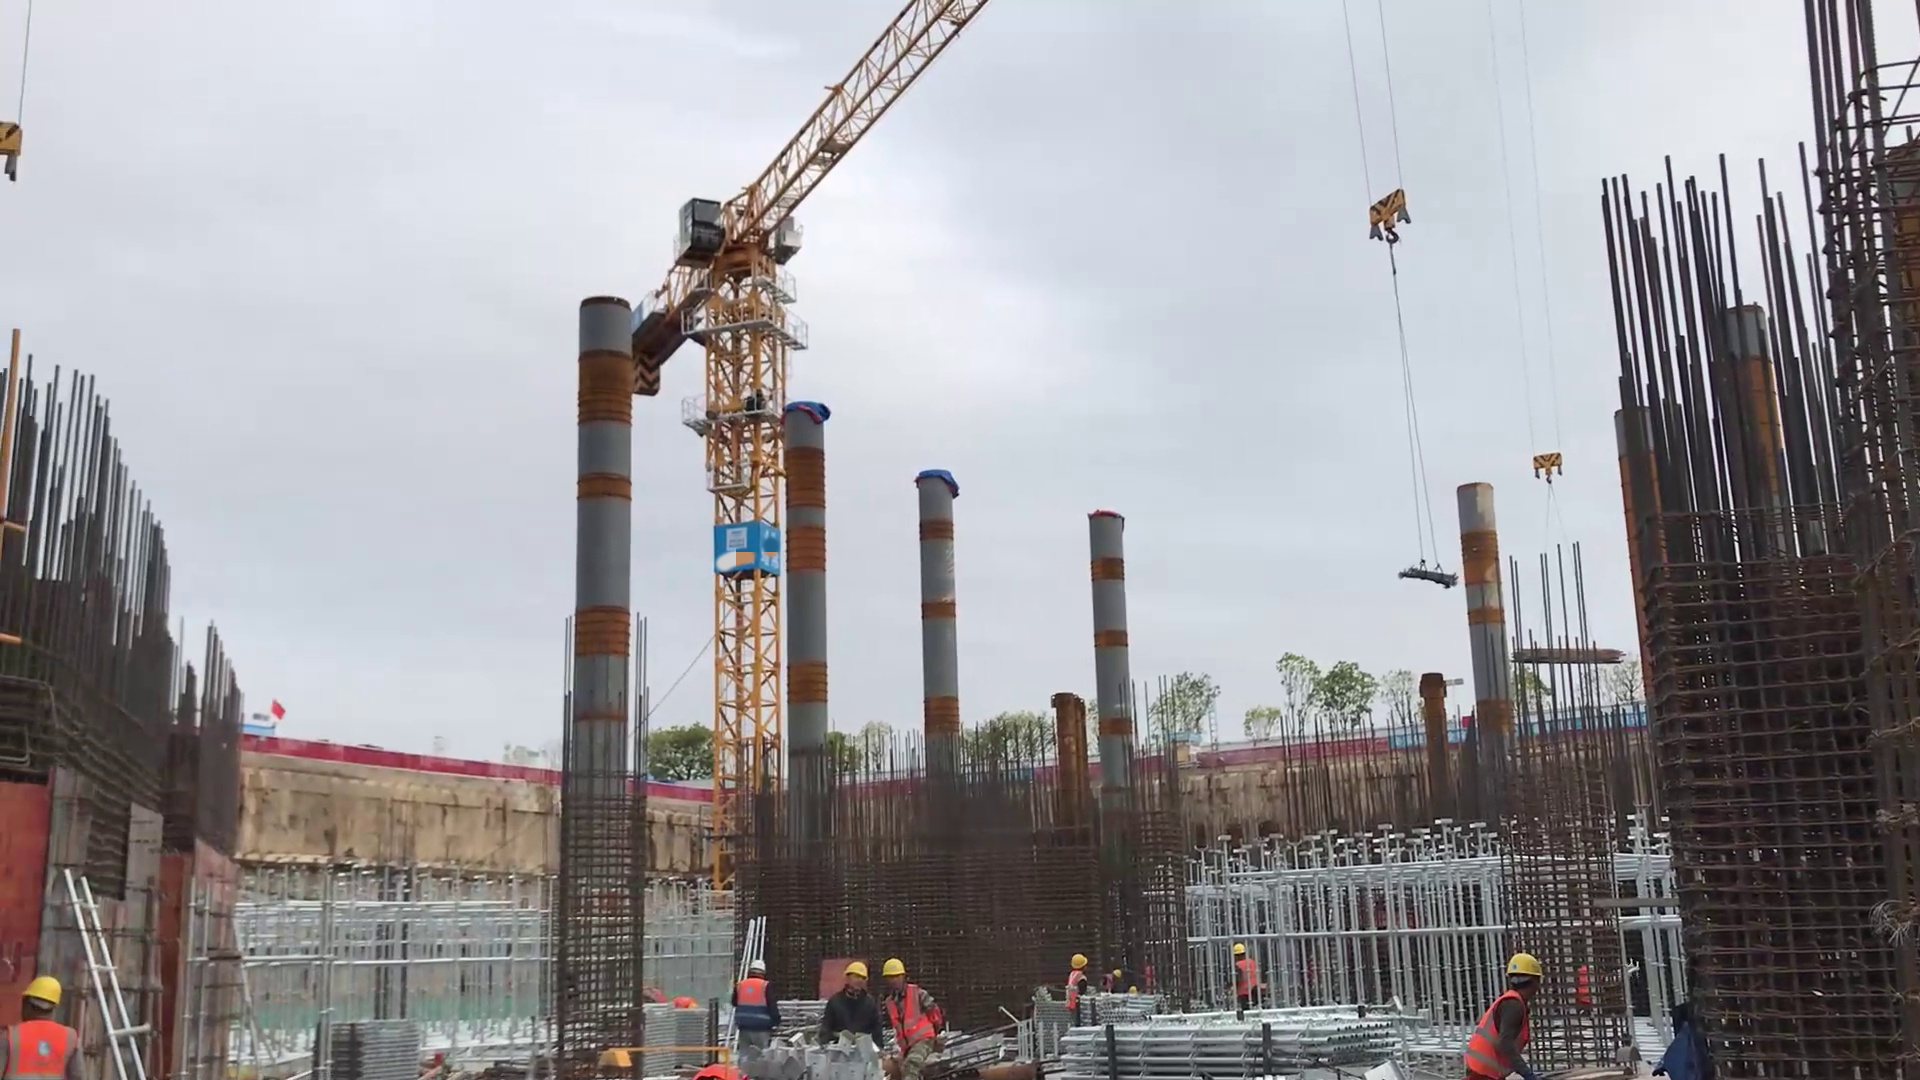helmet: (1504, 952, 1543, 979), (882, 956, 909, 979), (844, 961, 872, 980), (748, 959, 769, 974), (1071, 952, 1088, 970), (1232, 942, 1247, 956)
person: (1460, 948, 1551, 1080), (879, 951, 958, 1066), (1, 972, 77, 1080), (818, 960, 882, 1050), (732, 958, 789, 1056), (1223, 938, 1266, 1013), (1064, 949, 1093, 1020)
vest: (1470, 990, 1535, 1080), (8, 1019, 80, 1080), (887, 988, 942, 1051), (736, 978, 777, 1030), (1231, 957, 1262, 999), (694, 1062, 746, 1080), (1067, 972, 1090, 1004)
